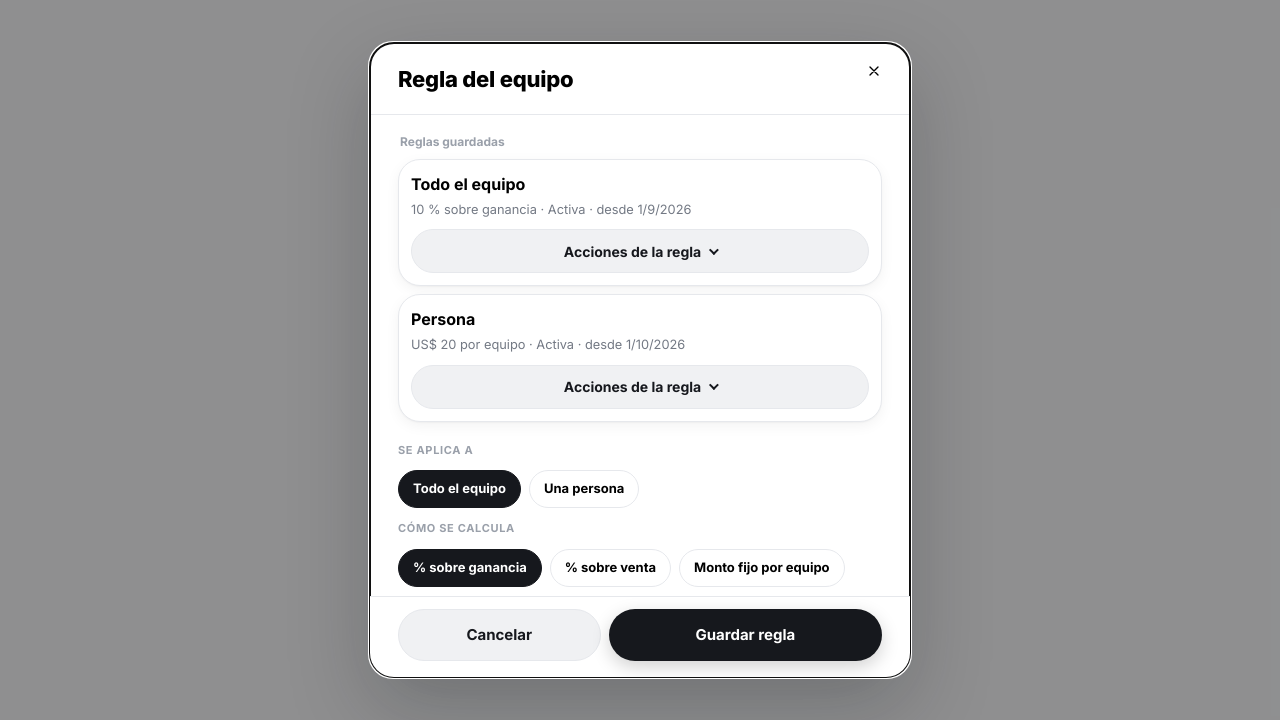
Test case: Comisiones › keeps rule confirmation open on a persistence error
Click the heading "Acciones de la regla" below "10 % sobre ganancia" at point(640, 251), box [411,229,869,273]
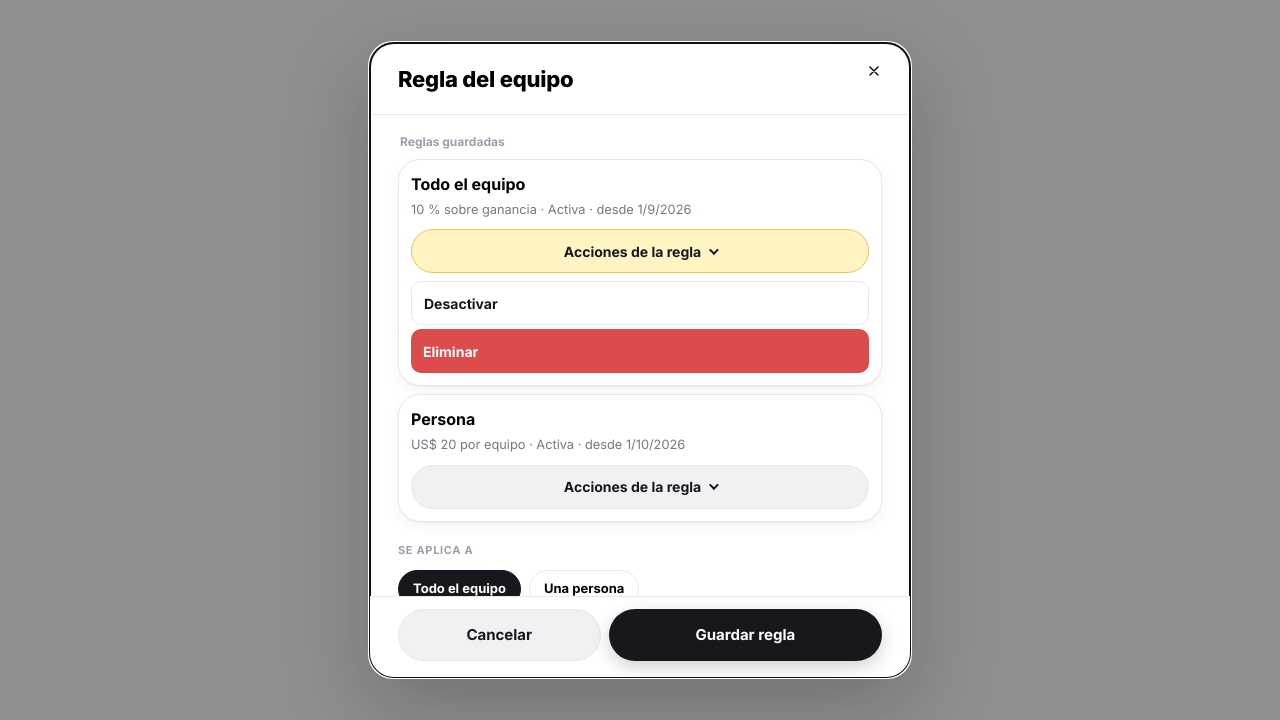
Click the button with aria-label "Eliminar regla de Todo el equipo" at point(451, 351), box [411,329,869,373]
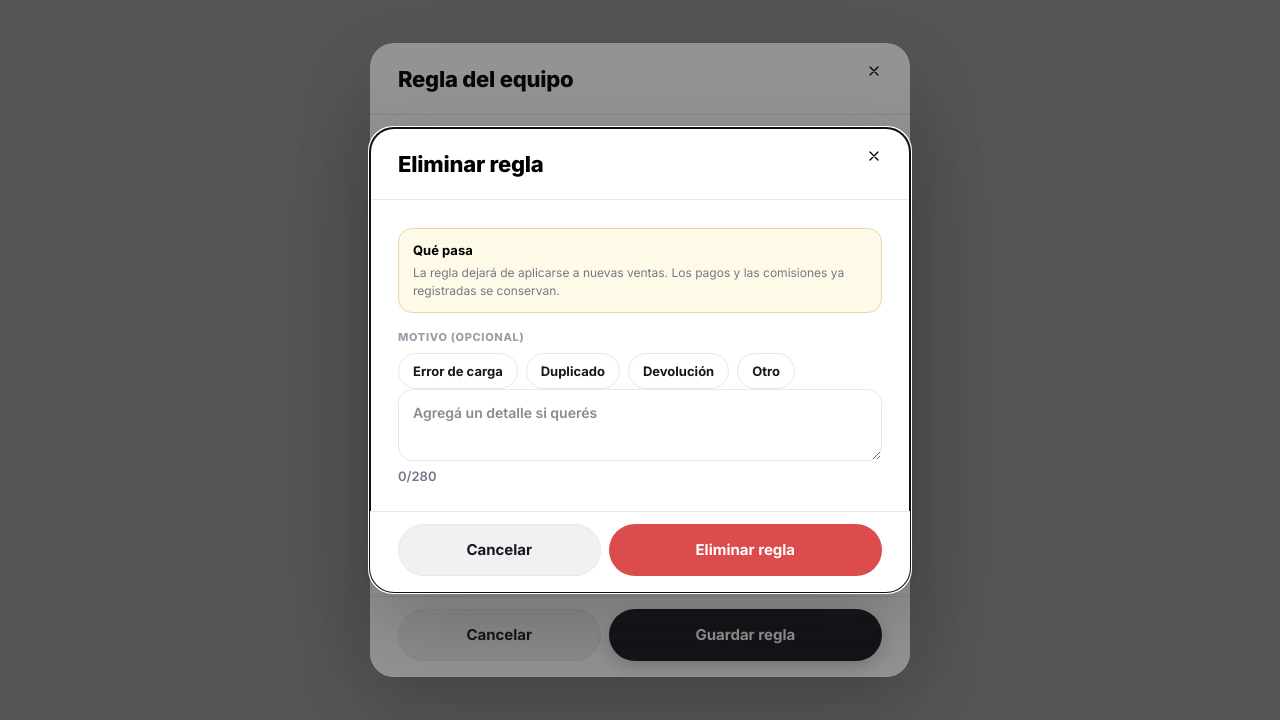
Click the button "Eliminar regla" at point(745, 550), box [608,524,882,576]
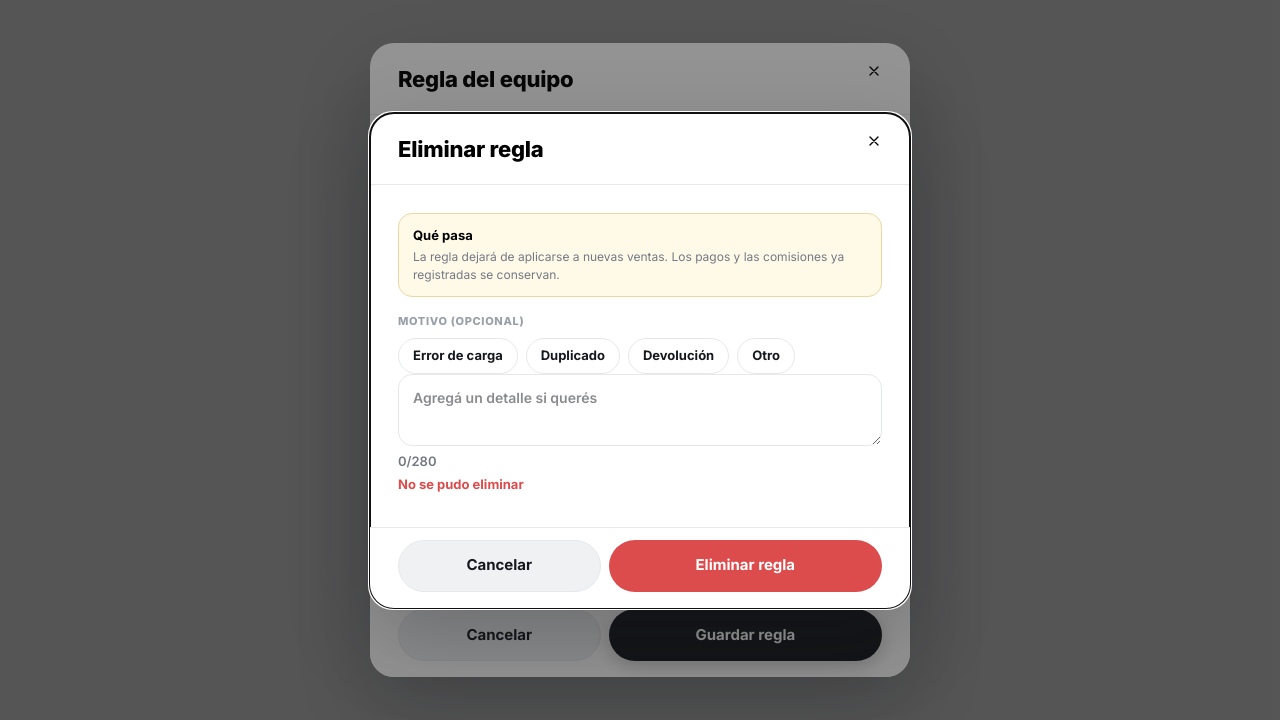
Check: the dialog "Eliminar regla" shows "No se pudo eliminar", box [398,476,524,492]
